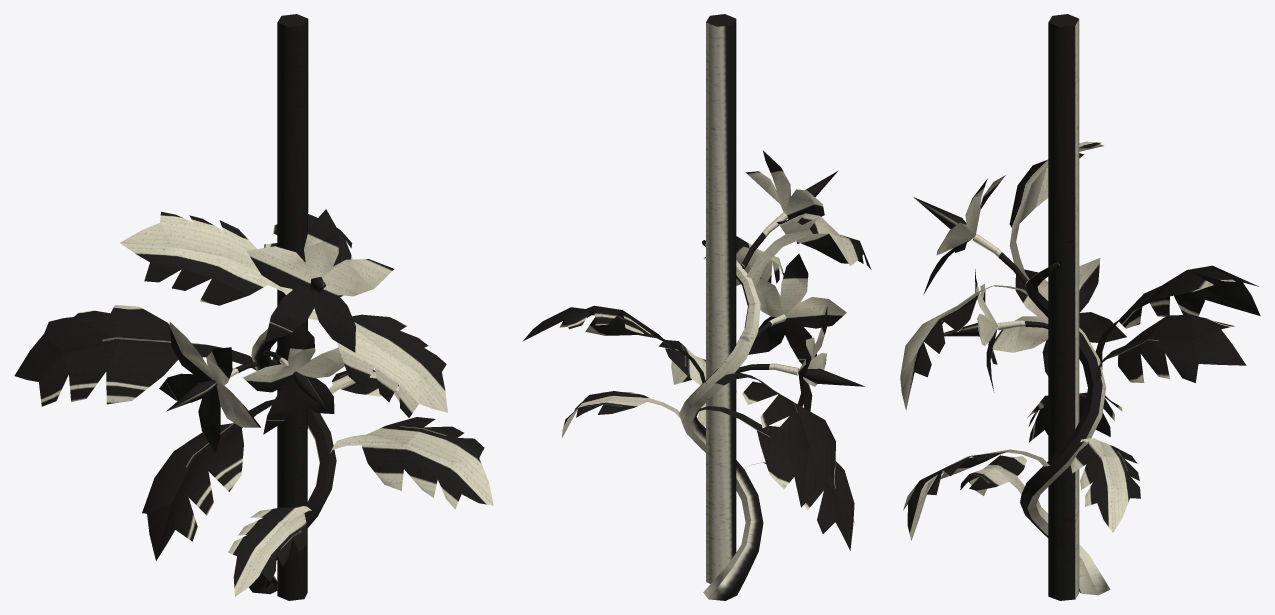
The picture shows the model from 3 angles, left to right: view 1: azimuth 30°, elevation 25°; view 2: azimuth 150°, elevation 25°; view 3: azimuth 270°, elevation 25°; orthographic projection. The views are drawn at different scales.
Parts seen in each view (by area): view 1: SM_Tomato_Lv2; view 2: SM_Tomato_Lv2; view 3: SM_Tomato_Lv2.
Boxes of the visible parts, left/top/right/bottom form: SM_Tomato_Lv2: left=14, top=14, right=493, bottom=600; SM_Tomato_Lv2: left=522, top=14, right=871, bottom=600; SM_Tomato_Lv2: left=900, top=14, right=1260, bottom=600.
Bounding box in the file's own units: 0.28 × 0.4748 × 0.2702.
